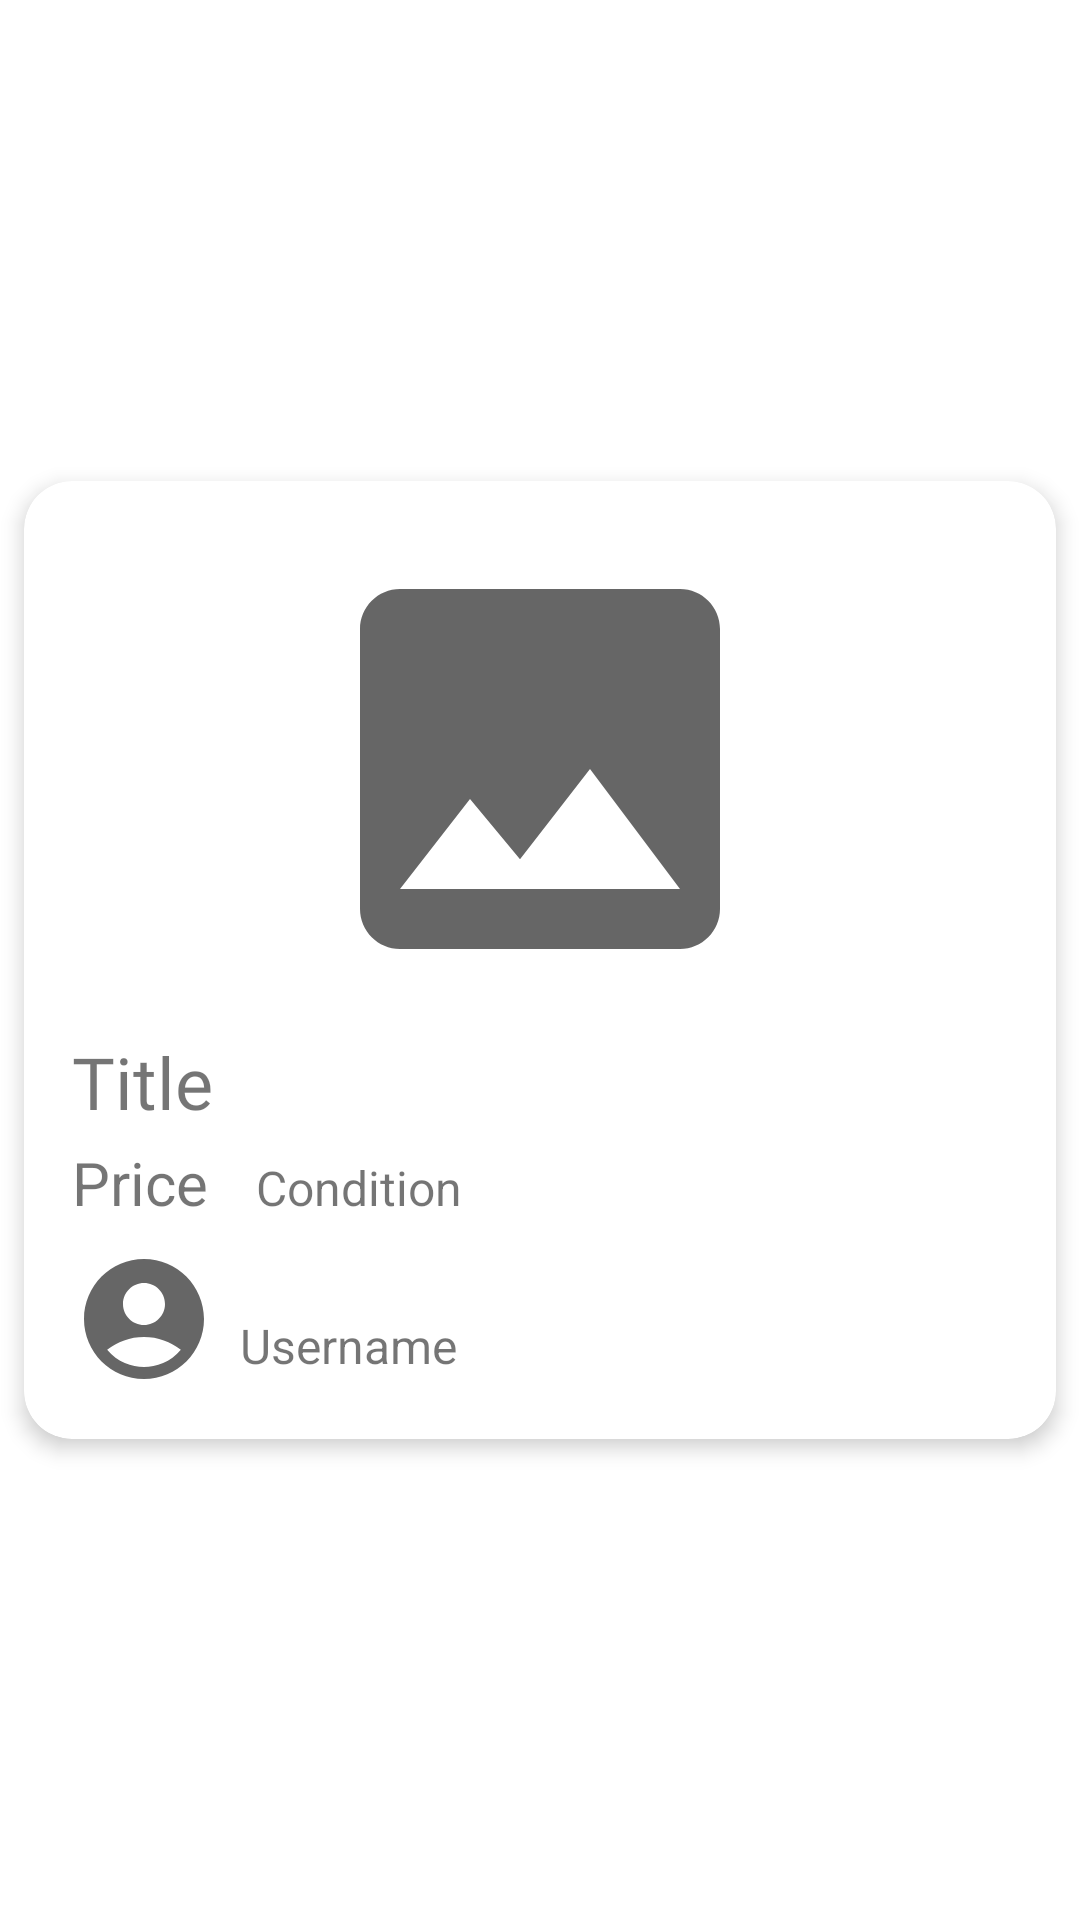

Where to tap for icons on this 1080px×1920px app screen, as (x=x, y=y):
profile: (x=144, y=1319)
